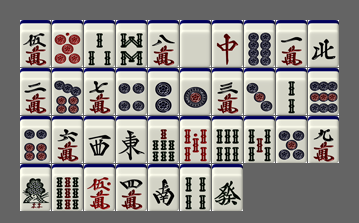0m: (84, 164, 115, 211)
0p: (52, 20, 83, 67)
0s: (180, 116, 211, 163)
1m: (276, 20, 307, 67)
1p: (180, 68, 211, 115)
1s: (20, 164, 51, 211)
1z: (116, 116, 147, 163)
2m: (20, 68, 51, 115)
2p: (148, 68, 179, 115)
2s: (276, 68, 307, 115)
2z: (148, 164, 179, 211)
3m: (212, 68, 243, 115)
3p: (244, 68, 275, 115)
3s: (84, 20, 115, 67)
3z: (84, 116, 115, 163)
4m: (116, 164, 147, 211)
4p: (116, 68, 147, 115)
4s: (180, 164, 211, 211)
4z: (308, 20, 339, 67)
5m: (20, 20, 51, 67)
5p: (276, 116, 307, 163)
5s: (244, 116, 275, 163)
5z: (180, 20, 211, 67)
6m: (52, 116, 83, 163)
6p: (20, 116, 51, 163)
6s: (212, 116, 243, 163)
6z: (212, 164, 243, 211)
7m: (84, 68, 115, 115)
7p: (52, 68, 83, 115)
7s: (148, 116, 179, 163)
7z: (212, 20, 243, 67)
8m: (148, 20, 179, 67)
8p: (244, 20, 275, 67)
8s: (116, 20, 147, 67)
9m: (308, 116, 339, 163)
9p: (308, 68, 339, 115)
9s: (52, 164, 83, 211)
